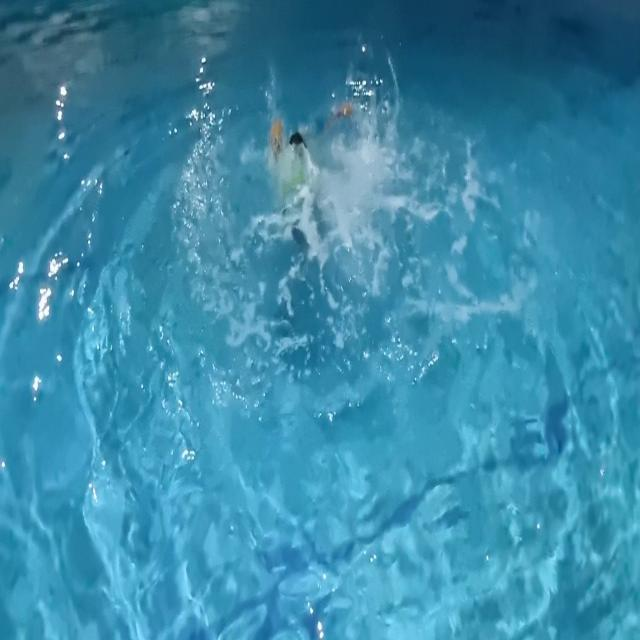Drowning: (243, 76, 403, 257)
